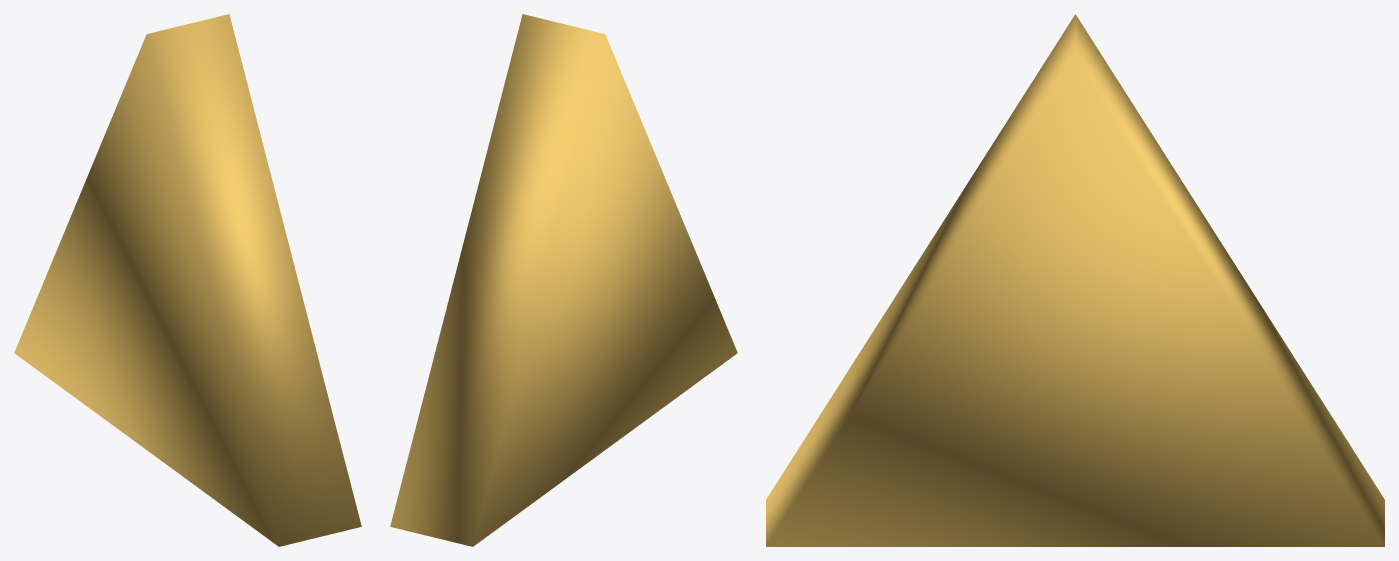
Rendered from shape-triangle-yellow.glb.
3 views of the same model, side by side, from view 1: azimuth 30°, elevation 25°; view 2: azimuth 150°, elevation 25°; view 3: azimuth 270°, elevation 25° (orthographic). The views are drawn at different scales.
Parts seen in each view (by area): view 1: solid triangle; view 2: solid triangle; view 3: solid triangle.
Part boxes in pixels (x1=…): solid triangle: x1=14, y1=14, x2=361, y2=546; solid triangle: x1=390, y1=14, x2=737, y2=546; solid triangle: x1=766, y1=14, x2=1384, y2=546.
Bounding box in the file's own units: 0.25 × 1.2 × 1.39.
